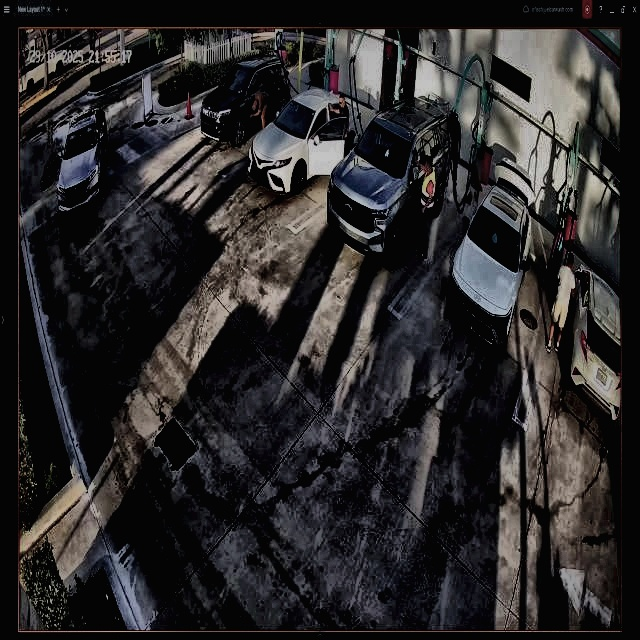Car: (327, 104, 459, 268), (447, 168, 531, 340), (250, 89, 362, 193), (200, 60, 289, 145)
